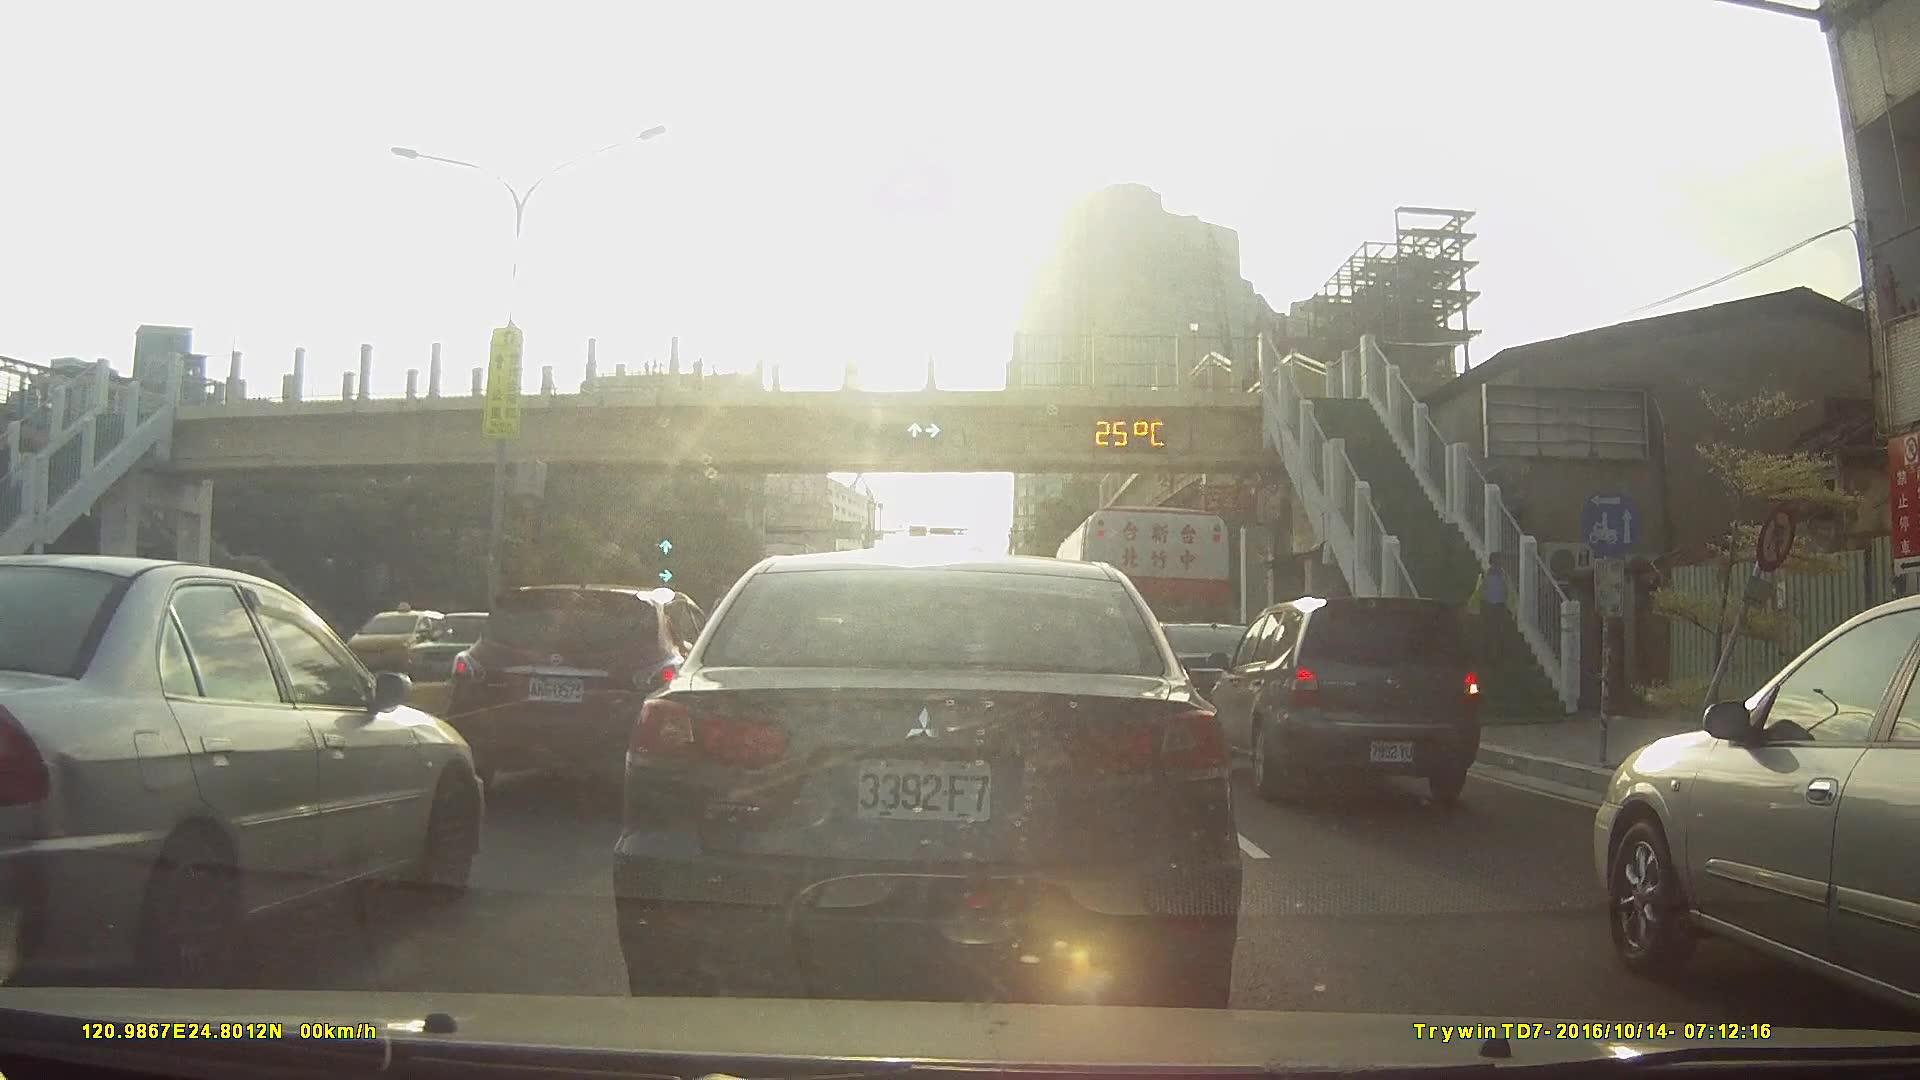pedestrian: (1470, 549, 1519, 656)
vehicle: (610, 552, 1245, 1004), (1, 554, 491, 987), (1581, 589, 1920, 1044), (1203, 595, 1494, 803), (451, 582, 730, 790), (1096, 615, 1280, 730), (393, 610, 523, 685), (341, 608, 458, 690)
